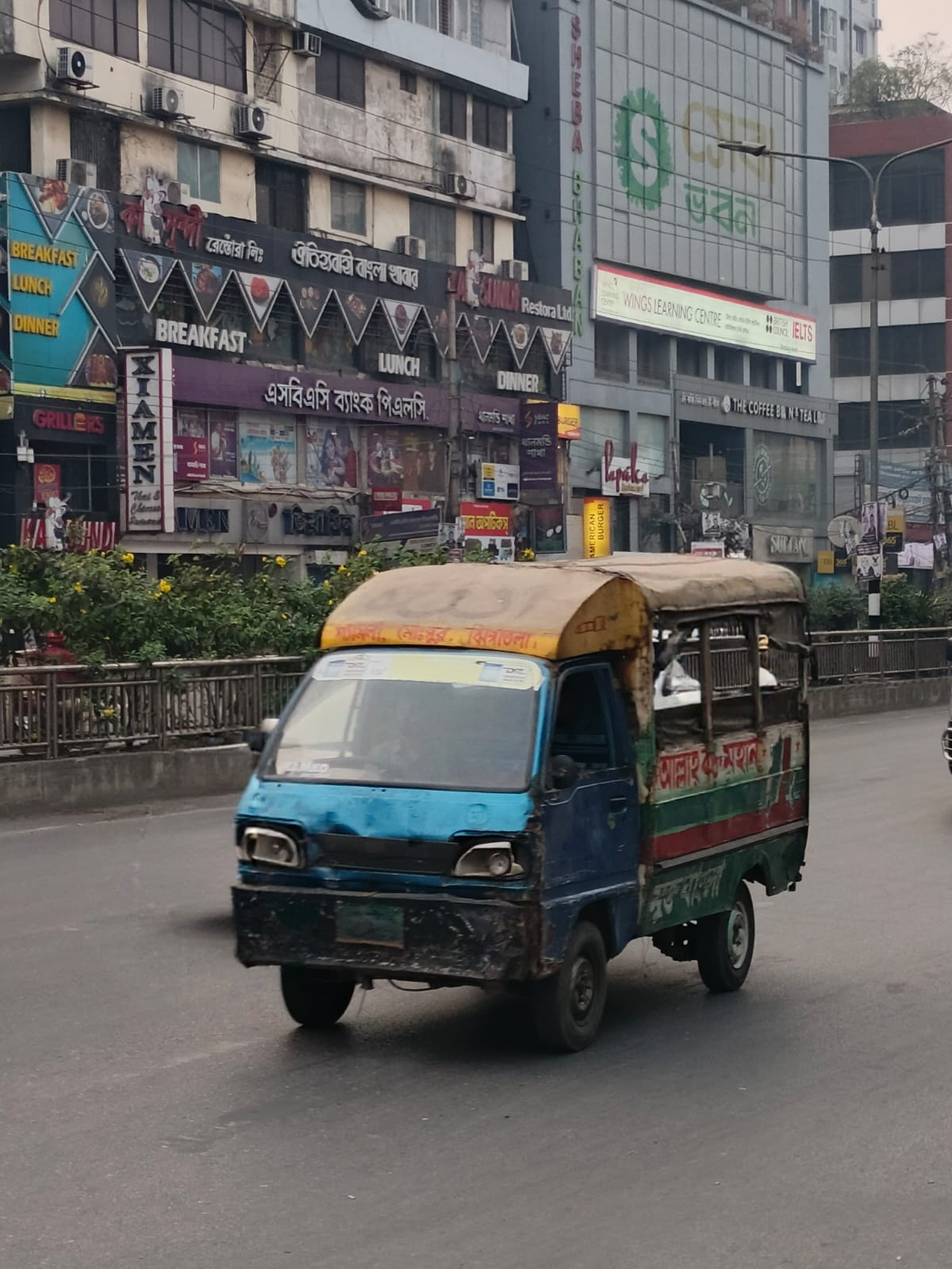Leguna: (222, 545, 817, 1041)
